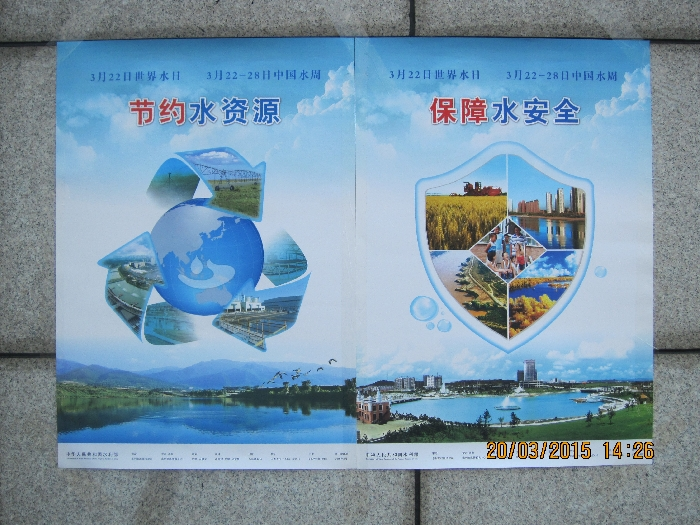bill: (56, 39, 355, 469), (355, 36, 651, 467)
